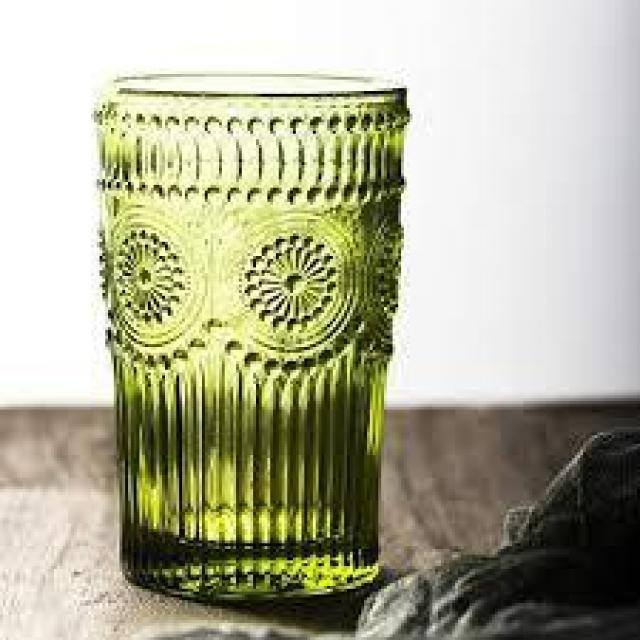non-organic waste: (89, 70, 414, 593)
